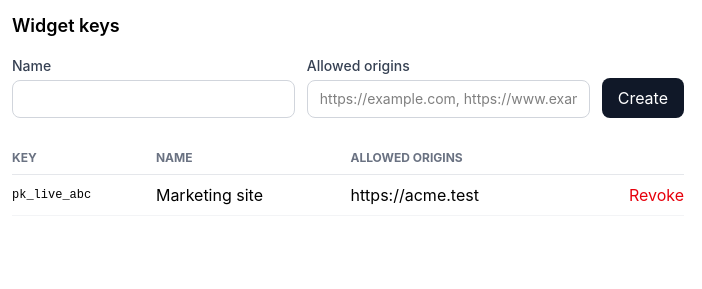
Test: WidgetKeys › shows an error and keeps the key when revoke fails
This screenshot has width=702, height=289.
Expected: the text "pk_live_abc" is shown, top-left (12, 174), bottom-right (156, 216)
What coordinates should you click on to do the following:
click the button "Revoke"
I would click on:
 (656, 195)
Its box is top-left (629, 183), bottom-right (684, 207).
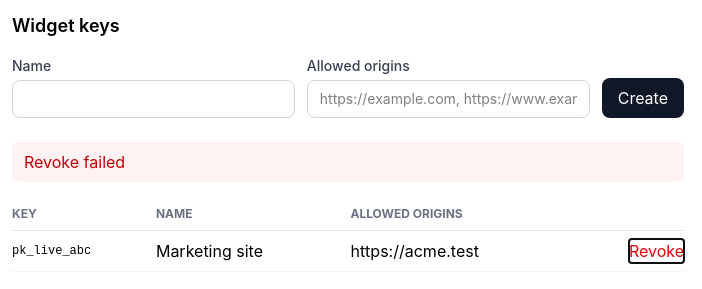
Expected: the text "pk_live_abc" is shown, top-left (12, 230), bottom-right (156, 272)
Expected: the text "Revoke failed" is shown, top-left (12, 142), bottom-right (684, 182)
